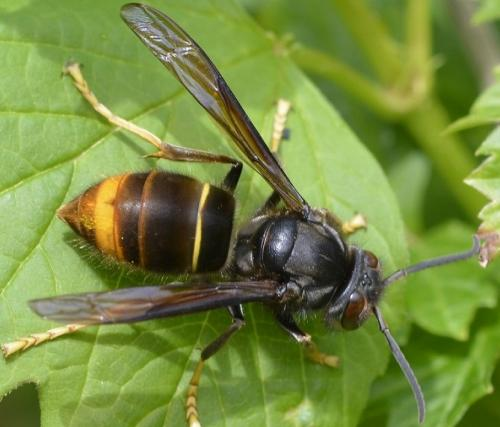hornet: (35, 38, 467, 393)
